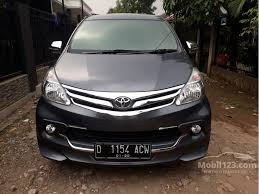plate: (95, 143, 150, 158)
